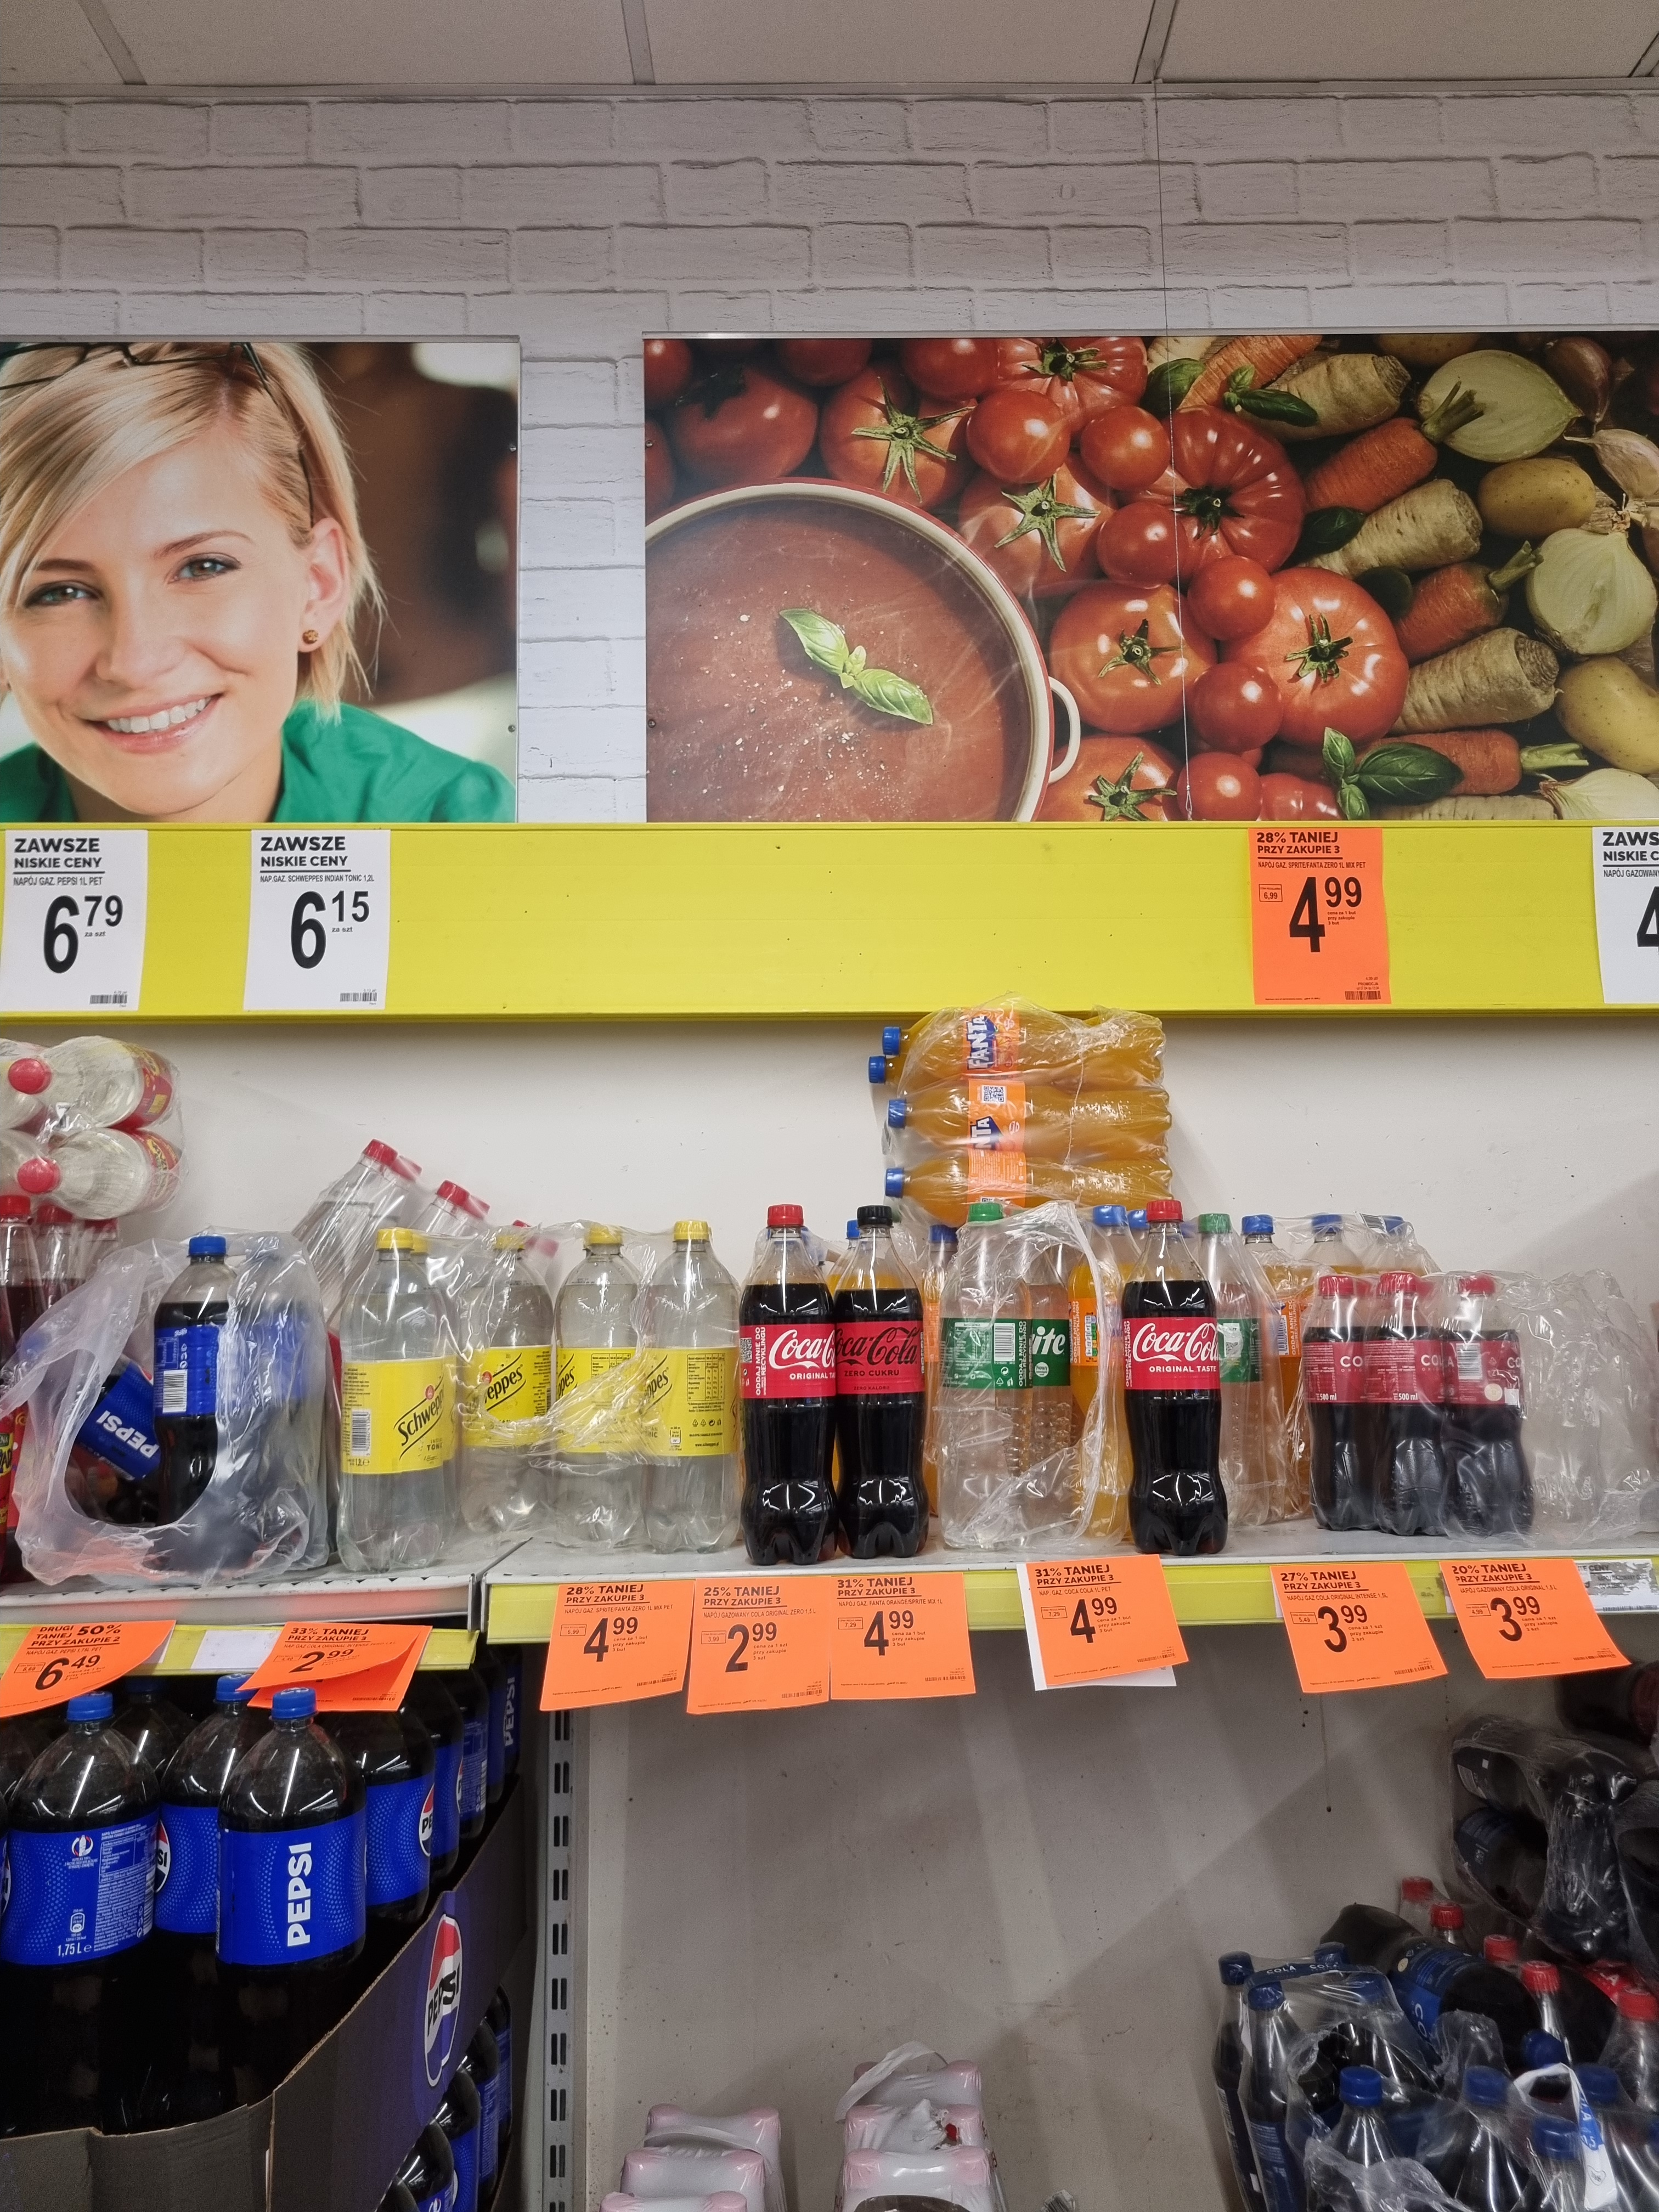Coca Cola: (1108, 1193, 1239, 1559), (732, 1197, 843, 1569), (819, 1193, 932, 1559)
